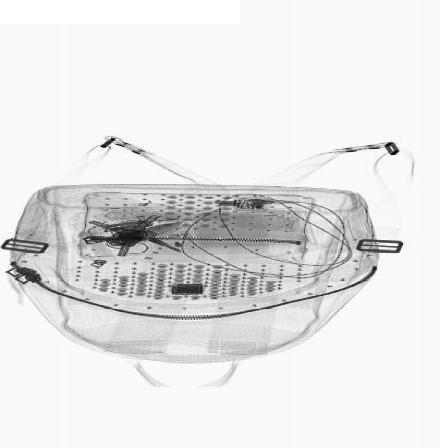Knife: (107, 222, 183, 248)
